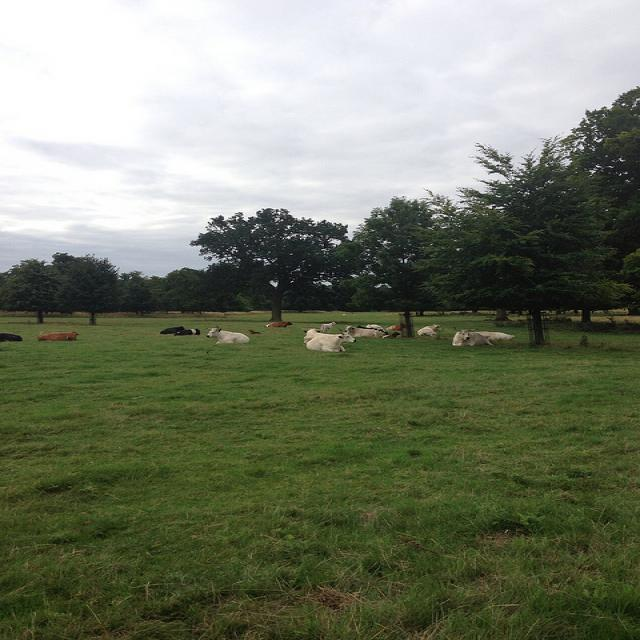cow: (204, 325, 513, 345), (304, 330, 355, 351), (451, 326, 499, 345), (347, 323, 385, 338), (36, 329, 77, 339), (300, 326, 321, 342), (415, 322, 440, 335), (157, 324, 183, 333), (367, 322, 388, 333), (0, 331, 21, 341), (172, 327, 199, 334), (383, 321, 404, 329), (263, 320, 291, 326), (247, 328, 259, 333)
